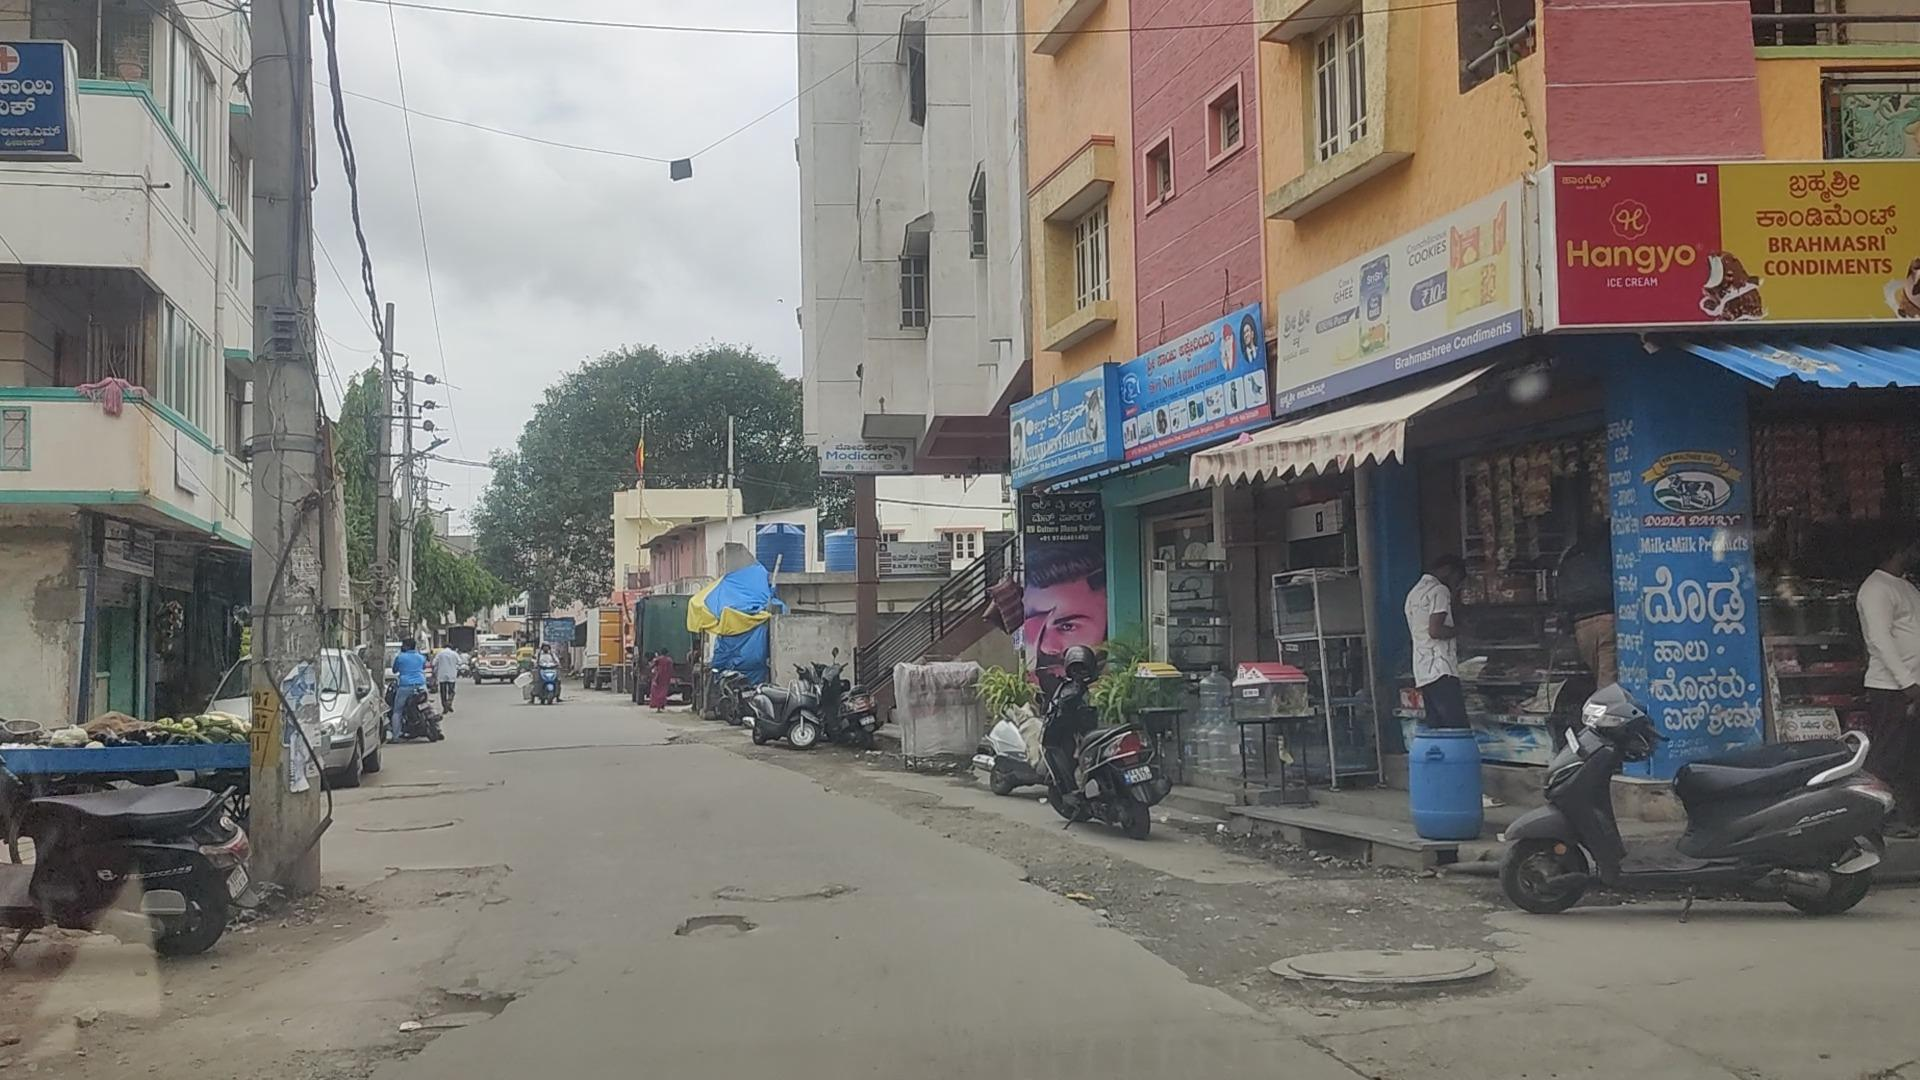RoadDamages: (1328, 989, 1809, 1080), (272, 939, 559, 1071), (1244, 906, 1490, 994), (1014, 828, 1129, 920), (372, 853, 517, 919), (670, 903, 779, 959), (922, 794, 994, 858), (360, 808, 460, 840), (497, 741, 705, 756), (815, 775, 884, 810)
